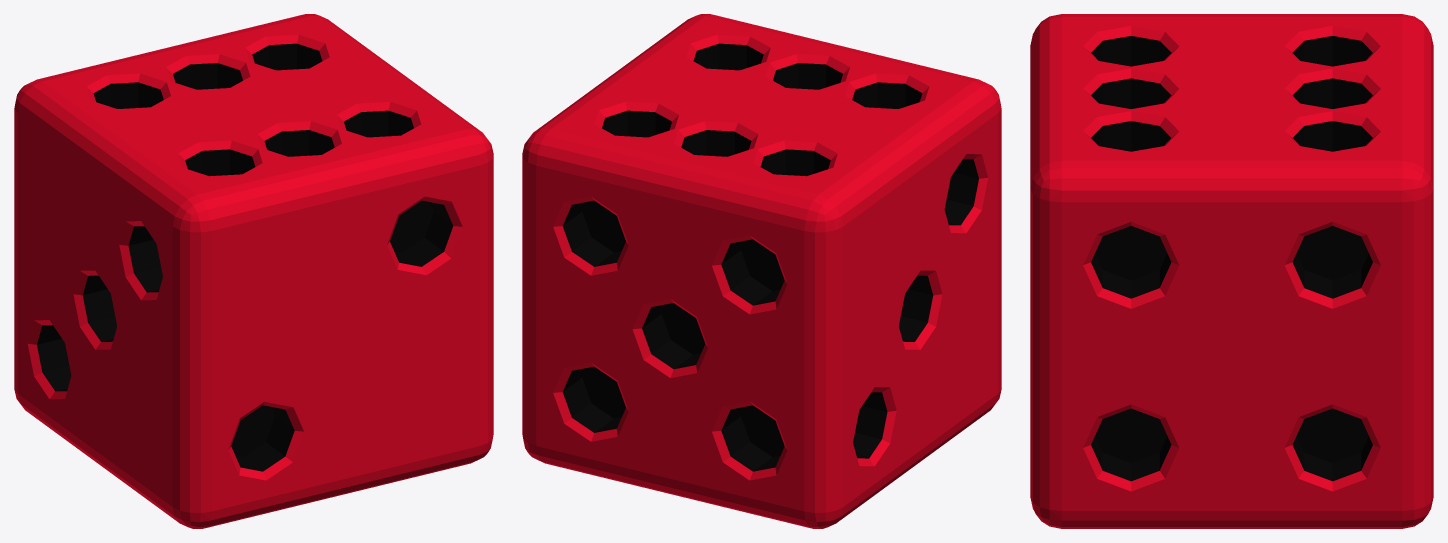
File: dice_red.glb
3 views of the same model, side by side, from view 1: azimuth 30°, elevation 25°; view 2: azimuth 150°, elevation 25°; view 3: azimuth 270°, elevation 25° (orthographic). The views are drawn at different scales.
Visible parts, largest first — view 1: Cube; view 2: Cube; view 3: Cube.
Part boxes in pixels (x1,y1,x2,y2): Cube: (14, 14, 493, 528); Cube: (522, 14, 1001, 528); Cube: (1030, 14, 1433, 528).
Bounding box in the file's own units: 2 × 2 × 2.
